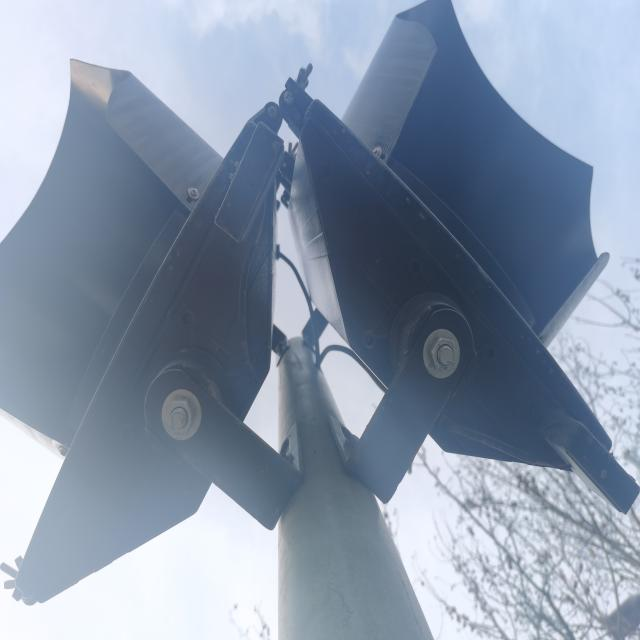bolt nut: (164, 395, 196, 438), (428, 335, 458, 374)
